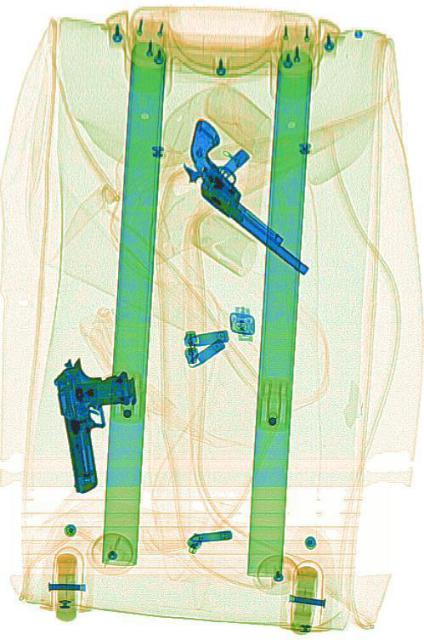Gun: (173, 112, 327, 278), (50, 343, 147, 495)
